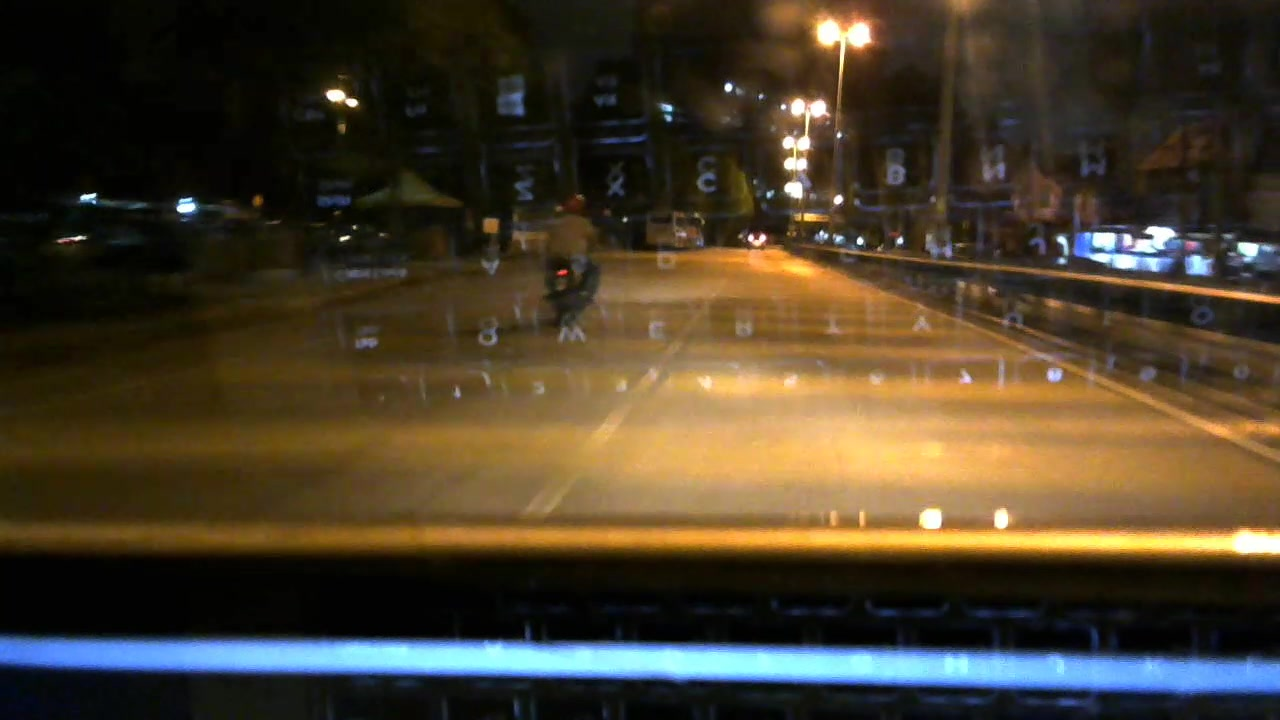Car: (743, 222, 772, 251)
